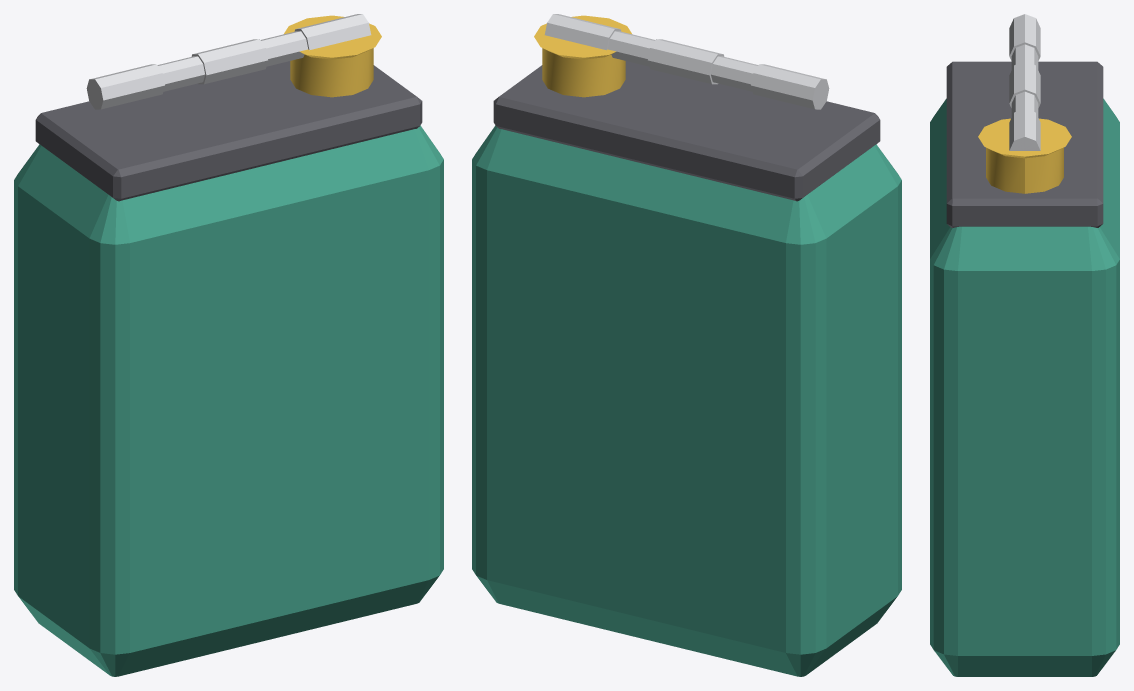
File: petrol-station-and-forecourt-shop-jerrycan-4a507df8__33982.glb
3 views of the same model, side by side, from view 1: azimuth 30°, elevation 25°; view 2: azimuth 150°, elevation 25°; view 3: azimuth 270°, elevation 25° (orthographic). The views are drawn at different scales.
Parts seen in each view (by area): view 1: jerrycan; view 2: jerrycan; view 3: jerrycan.
Part boxes in pixels (left/top/right/bottom): jerrycan: left=14, top=14, right=443, bottom=676; jerrycan: left=472, top=14, right=901, bottom=676; jerrycan: left=930, top=14, right=1119, bottom=676.
Bounding box in the file's own units: 0.34 × 0.524 × 0.17.
